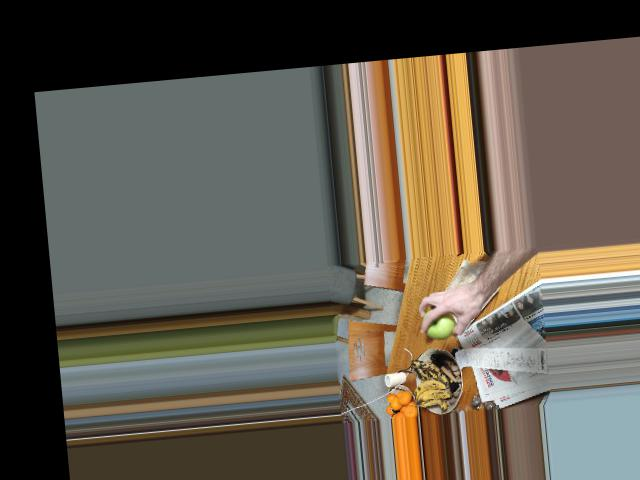apple: (424, 310, 456, 338)
